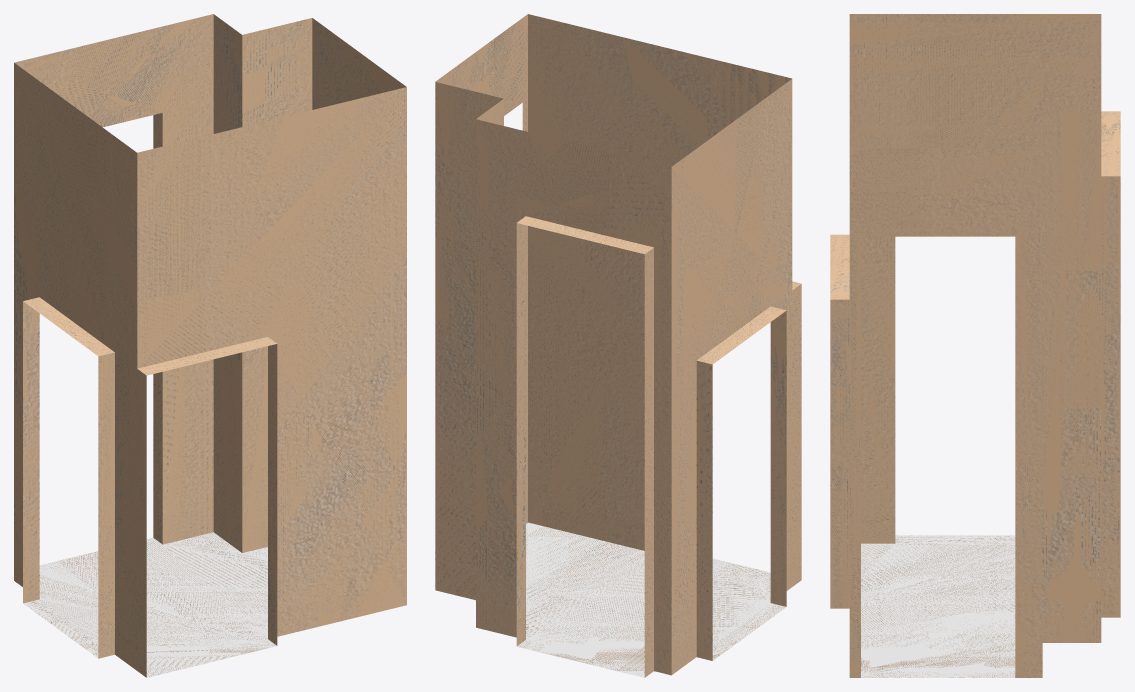
File: COM015.obj
3 views of the same model, side by side, from view 1: azimuth 30°, elevation 25°; view 2: azimuth 150°, elevation 25°; view 3: azimuth 270°, elevation 25° (orthographic). The views are drawn at different scales.
Visible parts, largest first — view 1: Mesh1 COM020 Model; view 2: Mesh1 COM020 Model; view 3: Mesh1 COM020 Model.
Part boxes in pixels (left/top/right/bottom): Mesh1 COM020 Model: left=14, top=14, right=406, bottom=677; Mesh1 COM020 Model: left=435, top=14, right=801, bottom=677; Mesh1 COM020 Model: left=830, top=14, right=1120, bottom=677.
Size of the model in its own units: 2.08 by 3.6 by 1.79.
Materials: 4 (2 with a texture image).
